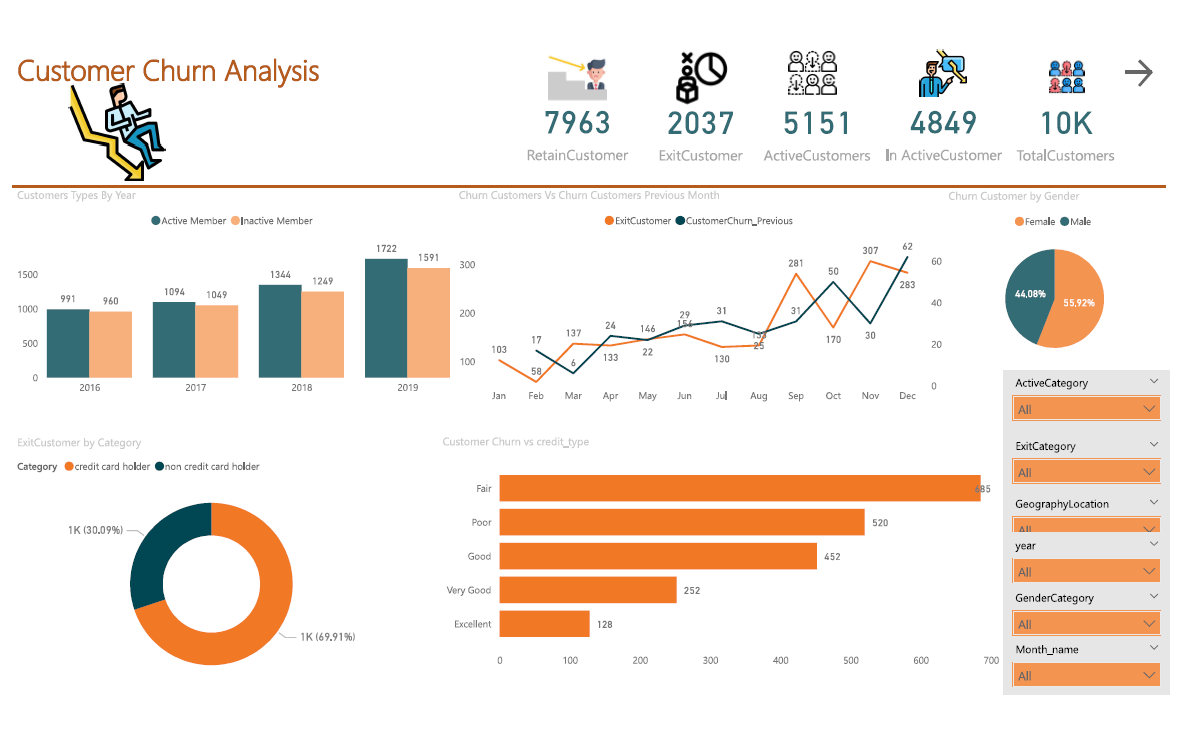

Layout of this report page (visuals, bound fields, positions):
{"tool":"powerbi","page":{"name":"Main Page","canvas":[1280,720],"ordinal":0},"visuals":[{"type":"card","fields":{"Values":["calculations.TotalCustomers"]},"box":[1102,45.2,127.3,98.8],"z":0},{"type":"card","fields":{"Values":["calculations.ActiveCustomers"]},"box":[816.4,45.2,148.8,98.8],"z":1000},{"type":"card","fields":{"Values":["calculations.In ActiveCustomer"]},"box":[959.2,45.2,142.8,97.6],"z":2000},{"type":"card","fields":{"Values":["calculations.ExitCustomer"]},"box":[693.8,48.8,135.7,91.6],"z":3000},{"type":"card","fields":{"Values":["calculations.RetainCustomer"]},"box":[554.6,51.2,140.4,85.7],"z":4000},{"type":"clusteredColumnChart","title":"Customers Types By Year","fields":{"Category":["DateMaster.year"],"Y":["calculations.TotalCustomers"],"Series":["ActiveCustomer.ActiveCategory"]},"box":[0,158.3,489.1,239.2],"z":5000},{"type":"lineChart","title":"Churn Customers Vs Churn Customers Previous Month","fields":{"Category":["DateMaster.Month_name"],"Y2":["calculations.CustomerChurn_Previous"],"Y":["calculations.ExitCustomer"]},"box":[489.1,158.3,545.1,247.5],"z":6000},{"type":"pieChart","title":"Churn Customer by Gender","fields":{"Y":["calculations.ExitCustomer"],"Category":["Gender.GenderCategory"]},"box":[1030.6,159.5,245.2,199.9],"z":7000},{"type":"barChart","title":"Customer Churn vs credit_type","fields":{"Category":["Bank_Churn.credit_type"],"Y":["calculations.ExitCustomer"]},"box":[471.3,430.8,626,267.8],"z":8000},{"type":"slicer","fields":{"Values":["Geography.GeographyLocation"]},"box":[1097.3,495.1,183.3,59.5],"z":9000},{"type":"slicer","fields":{"Values":["Gender.GenderCategory"]},"box":[1097.3,598.6,183.3,57.1],"z":10000},{"type":"slicer","fields":{"Values":["ExistCustomer.ExitCategory"]},"box":[1097.3,430.8,183.3,64.3],"z":11000},{"type":"slicer","fields":{"Values":["DateMaster.year"]},"box":[1097.3,541.5,183.3,57.1],"z":12000},{"type":"textbox","box":[0,0,1280.5,59.5],"z":13000},{"type":"slicer","fields":{"Values":["ActiveCustomer.ActiveCategory"]},"box":[1097.3,360.6,183.3,70.2],"z":14000},{"type":"slicer","fields":{"Values":["DateMaster.Month_name"]},"box":[1097.3,655.7,183.3,64.3],"z":15000},{"type":"shape","box":[0,151.1,1275.8,13.1],"z":16000},{"type":"donutChart","fields":{"Y":["calculations.ExitCustomer"],"Category":["creditCard.Category"]},"box":[0,430.8,440.3,289.2],"z":17000},{"type":"actionButton","box":[1225.8,11.9,50,40.5],"z":18000},{"type":"image","box":[57.1,0,116.6,195.2],"z":19000},{"type":"image","box":[1117.5,11.9,98.8,47.6],"z":20000},{"type":"image","box":[721.2,0,83.3,73.8],"z":21000},{"type":"image","box":[981.8,1.2,96.4,61.9],"z":22000},{"type":"image","box":[562.9,0,123.8,73.8],"z":23000},{"type":"image","box":[789,0,192.8,63.1],"z":24000}]}

Visuals, with their boxes on the page's 1280x720 design canvas (x1, y1, x2, y2). These are canvas units, not pixel positions in the 1182x741 screenshot, which may show the page scaled, cropped or inside an application window:
card - calculations.TotalCustomers: (1102, 45, 1229, 144)
card - calculations.ActiveCustomers: (816, 45, 965, 144)
card - calculations.In ActiveCustomer: (959, 45, 1102, 143)
card - calculations.ExitCustomer: (694, 49, 830, 140)
card - calculations.RetainCustomer: (555, 51, 695, 137)
"Customers Types By Year" clusteredColumnChart: (0, 158, 489, 398)
"Churn Customers Vs Churn Customers Previous Month" lineChart: (489, 158, 1034, 406)
"Churn Customer by Gender" pieChart: (1031, 160, 1276, 359)
"Customer Churn vs credit_type" barChart: (471, 431, 1097, 699)
slicer - Geography.GeographyLocation: (1097, 495, 1281, 555)
slicer - Gender.GenderCategory: (1097, 599, 1281, 656)
slicer - ExistCustomer.ExitCategory: (1097, 431, 1281, 495)
slicer - DateMaster.year: (1097, 542, 1281, 599)
textbox: (0, 0, 1280, 60)
slicer - ActiveCustomer.ActiveCategory: (1097, 361, 1281, 431)
slicer - DateMaster.Month_name: (1097, 656, 1281, 720)
shape: (0, 151, 1276, 164)
donutChart - calculations.ExitCustomer x creditCard.Category: (0, 431, 440, 720)
actionButton: (1226, 12, 1276, 52)
image: (57, 0, 174, 195)
image: (1118, 12, 1216, 60)
image: (721, 0, 804, 74)
image: (982, 1, 1078, 63)
image: (563, 0, 687, 74)
image: (789, 0, 982, 63)
